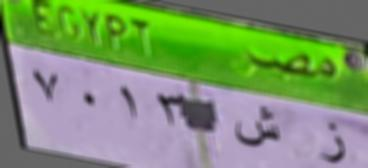0: (81, 82, 102, 127)
1: (118, 84, 144, 132)
3: (157, 86, 184, 133)
7: (26, 64, 64, 107)
sheen: (232, 107, 286, 150)
zay: (316, 119, 349, 165)
